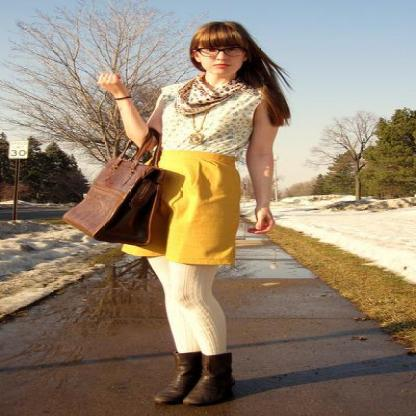bag: (62, 125, 179, 245)
shirt: (156, 78, 257, 157)
shoe: (157, 351, 236, 405)
skirt: (122, 147, 261, 264)
